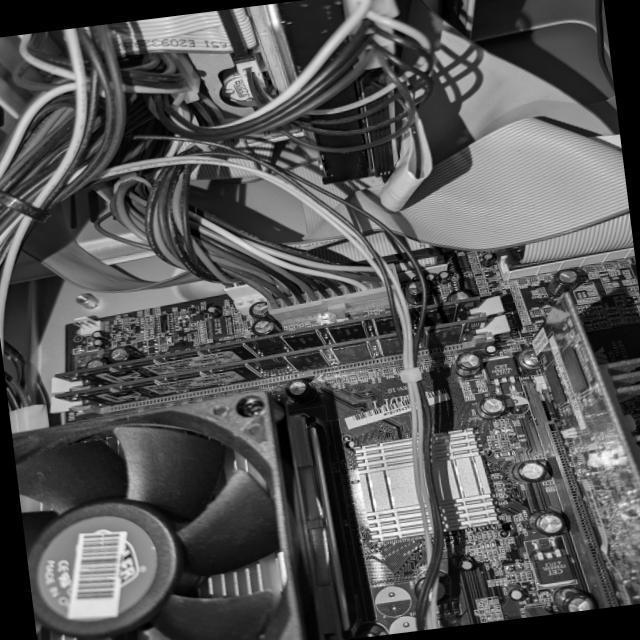CPU_Fan: (10, 380, 354, 640)
DISK: (264, 0, 415, 188)
Mainboard: (46, 221, 640, 640)
RAM: (52, 316, 493, 412), (51, 295, 493, 389)
